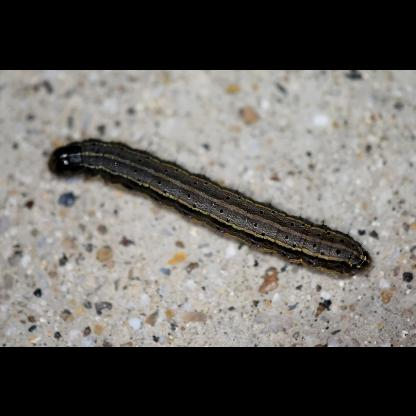Fall Armyworm Larvae: (42, 132, 378, 282)
